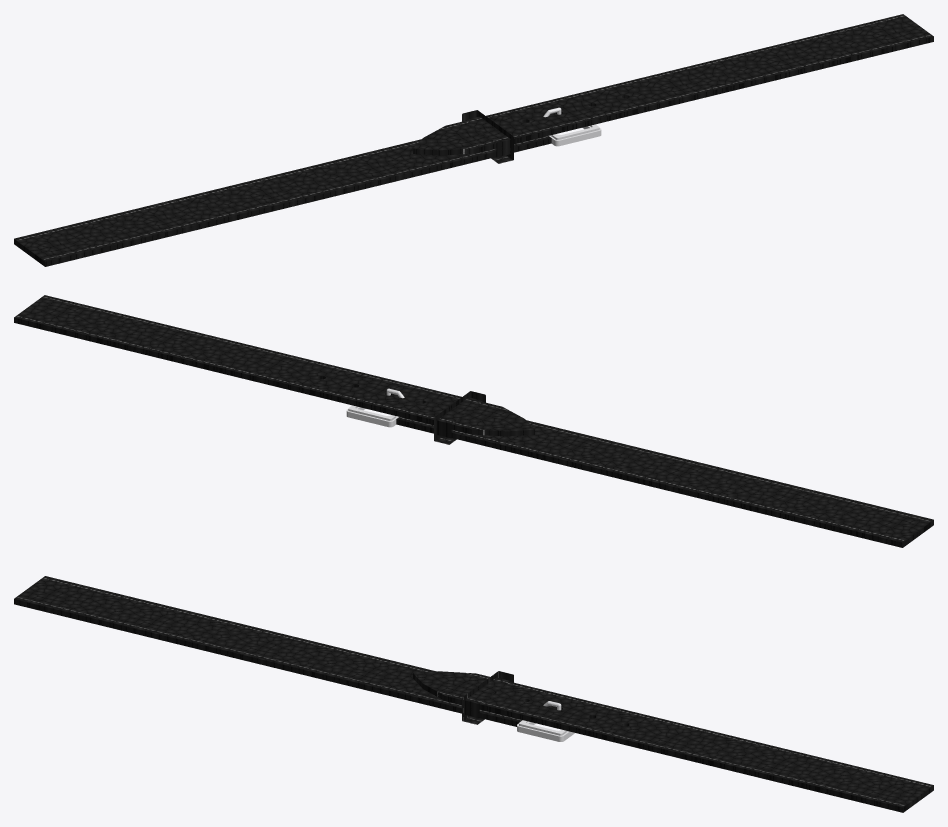
The model's file is veto-belt-black.glb.
3 renders of one model, top to bottom at view 1: azimuth 30°, elevation 25°; view 2: azimuth 150°, elevation 25°; view 3: azimuth 330°, elevation 25°, orthographic.
Parts seen in each view (by area): view 1: strap_right, strap_left, keeper, buckle_frame; view 2: strap_right, strap_left, keeper, buckle_frame; view 3: strap_right, strap_left, keeper, buckle_frame.
Part boxes in pixels (x1,y1,x2,y2): strap_right: (413, 14, 933, 155); strap_left: (14, 136, 551, 266); keeper: (462, 110, 513, 163); buckle_frame: (549, 124, 601, 146); strap_right: (14, 295, 534, 436); strap_left: (396, 417, 933, 547); keeper: (434, 391, 485, 444); buckle_frame: (346, 405, 398, 427); strap_right: (413, 671, 933, 812); strap_left: (14, 576, 522, 726); keeper: (462, 671, 513, 724); buckle_frame: (517, 720, 574, 741).
Size of the model in its own units: 66.8 by 1.74 by 5.3.
Materials: 2 (1 with a texture image).
